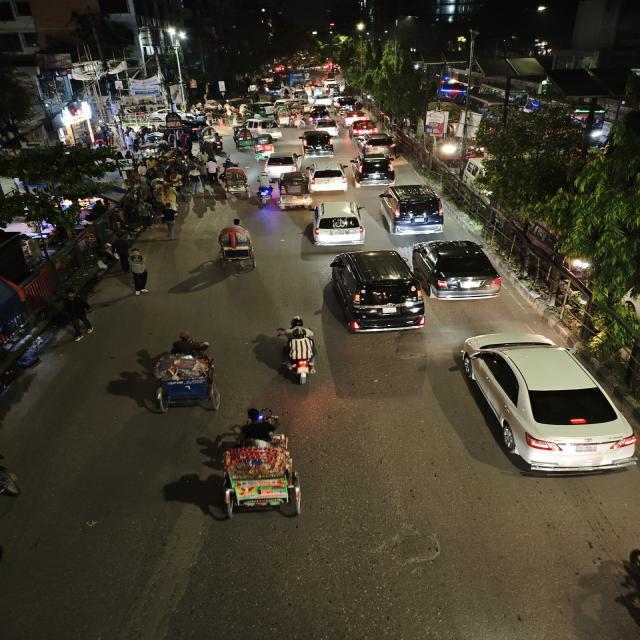car: (443, 328, 639, 480), (410, 236, 505, 302), (376, 183, 449, 237), (304, 200, 368, 250), (348, 153, 397, 187), (308, 162, 350, 193), (297, 130, 337, 154), (262, 153, 299, 176), (360, 134, 400, 154), (247, 116, 281, 136), (348, 119, 381, 138), (312, 118, 342, 137), (342, 109, 368, 125), (306, 108, 335, 122), (335, 96, 358, 110)
cng: (323, 247, 427, 336), (276, 171, 312, 212)
motorcycle: (270, 314, 327, 388), (256, 176, 274, 205), (211, 133, 226, 153)
pedestrian: (58, 290, 98, 340), (120, 250, 154, 294), (108, 232, 132, 270), (156, 201, 181, 237), (187, 162, 208, 196), (187, 192, 212, 220), (135, 201, 156, 232), (204, 158, 220, 182)
rickshaw: (207, 408, 311, 524), (130, 332, 231, 416), (213, 221, 262, 274), (218, 167, 251, 200), (251, 136, 276, 160), (232, 126, 255, 149), (276, 110, 296, 128), (291, 92, 310, 106)
